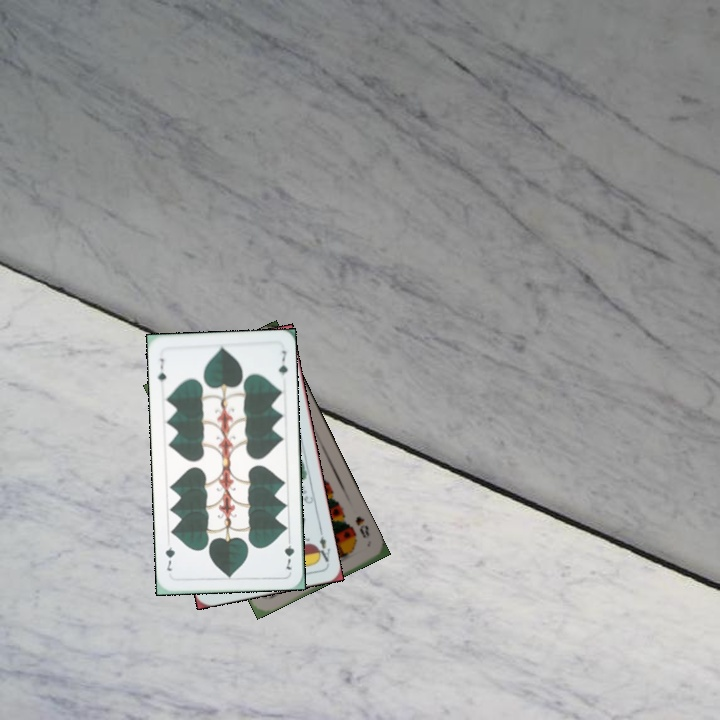EA: (311, 526, 333, 565)
G7: (280, 533, 297, 572), (154, 354, 169, 384)
S8: (351, 512, 372, 541)
